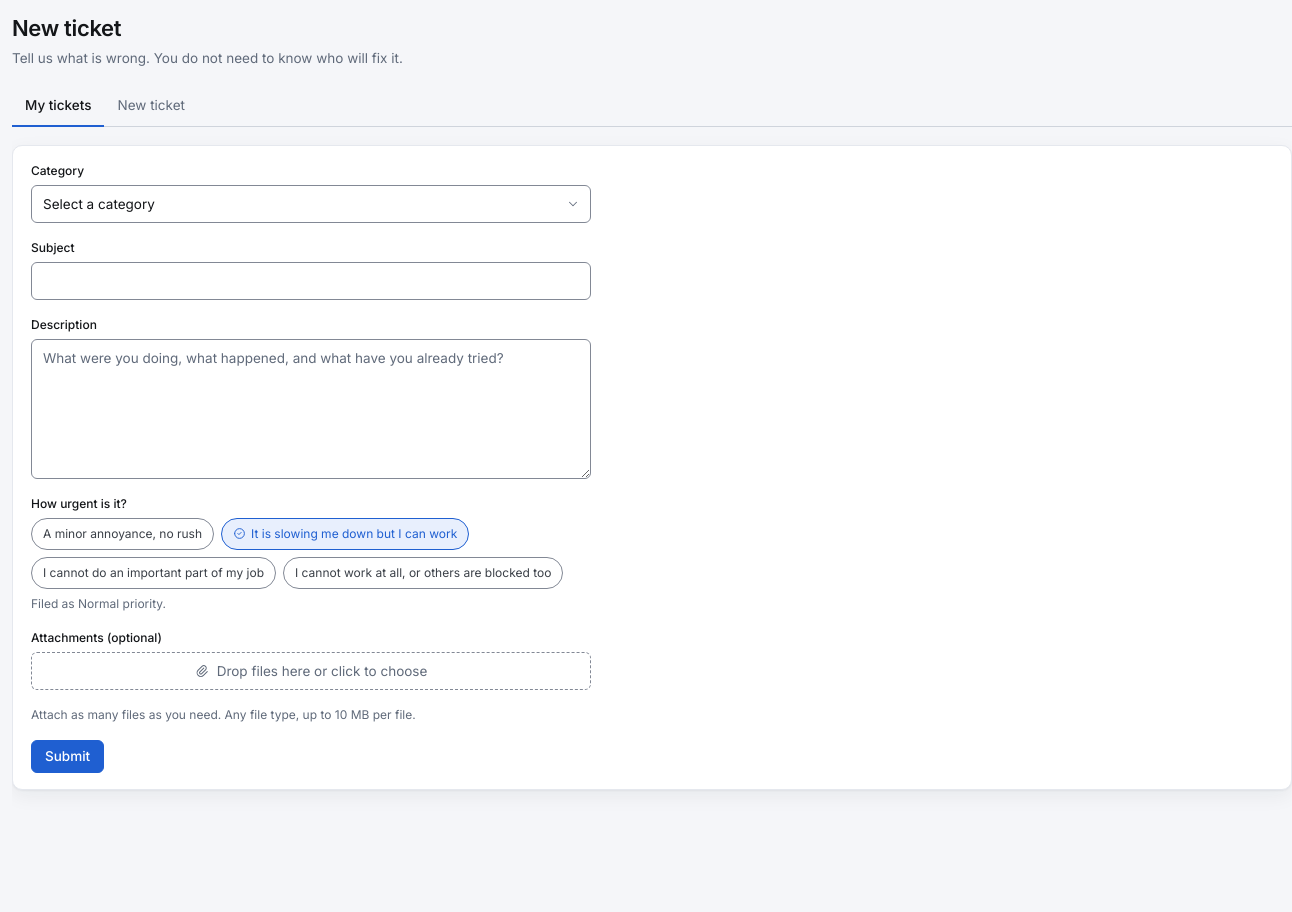
NewTicketPage › keeps Submit enabled on an empty form and names every missing field
The width and height of the screenshot is (1292, 912).
What coordinates should you click on to do the following:
click the button "Submit"
I would click on:
 (68, 757)
Its box is [31,740,104,773].
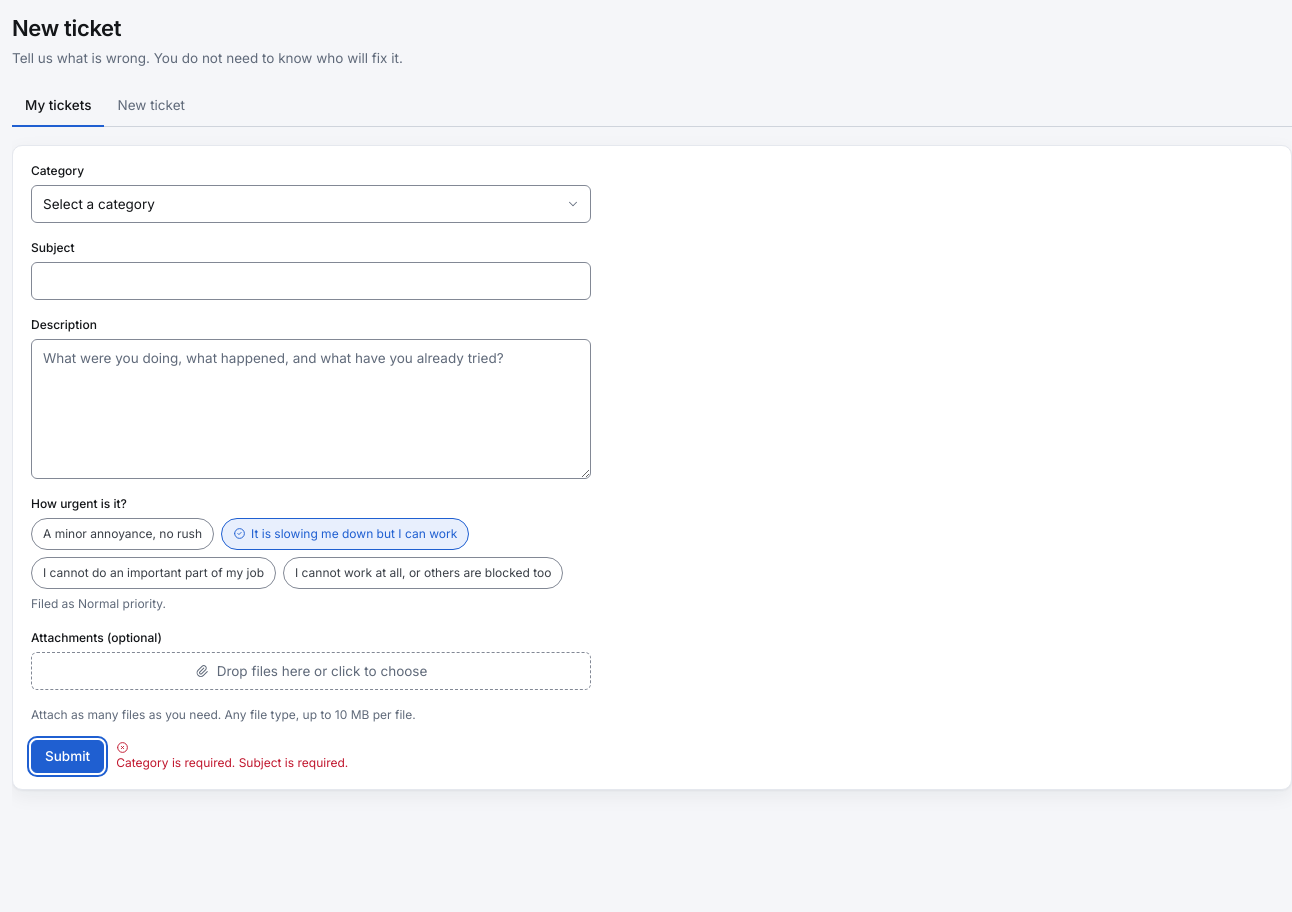
expect the message shows "Category is required": met, box [116,755,345,770]
expect the message shows "Subject is required": met, box [116,755,345,770]
